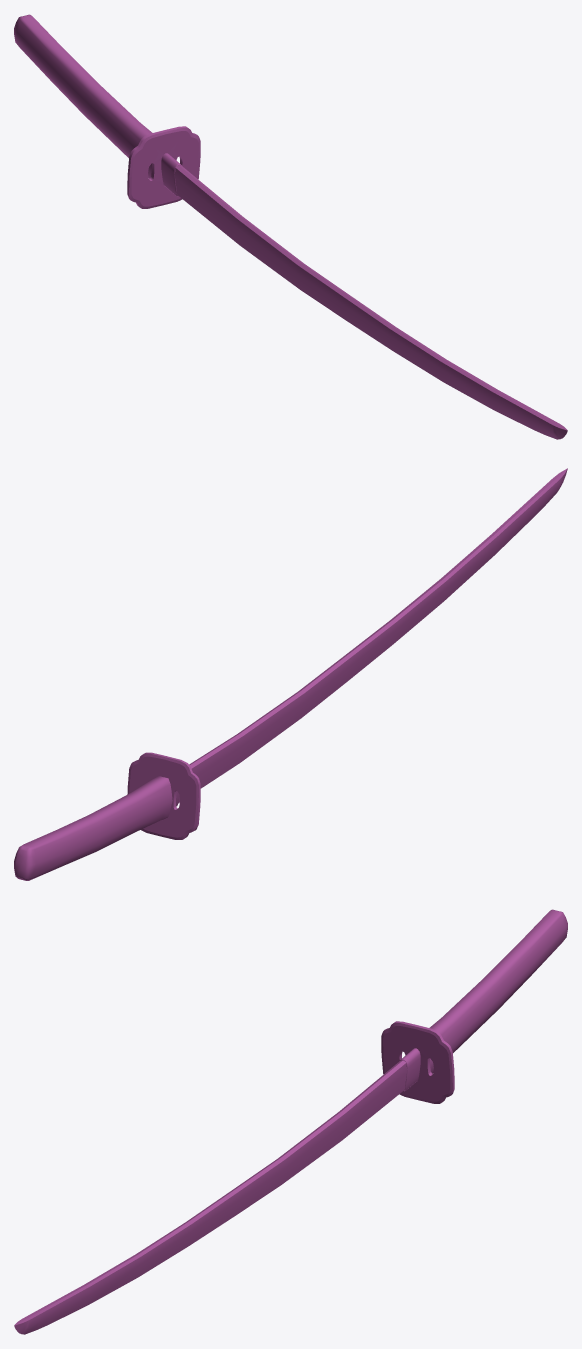
Rendered from katana_low.fbx.
3 renders of one model, top to bottom at view 1: azimuth 30°, elevation 25°; view 2: azimuth 150°, elevation 25°; view 3: azimuth 330°, elevation 25°, orthographic.
Parts seen in each view (by area): view 1: geo_blade1, grip_low, tsuba_low; view 2: geo_blade1, grip_low, tsuba_low; view 3: geo_blade1, grip_low, tsuba_low.
Boxes of the visible parts, left/top/right/bottom form: geo_blade1: left=175, top=165, right=567, bottom=439; grip_low: left=14, top=14, right=152, bottom=178; tsuba_low: left=127, top=126, right=200, bottom=208; geo_blade1: left=178, top=468, right=567, bottom=803; grip_low: left=14, top=776, right=172, bottom=880; tsuba_low: left=127, top=752, right=200, bottom=839; geo_blade1: left=14, top=1060, right=406, bottom=1334; grip_low: left=429, top=909, right=567, bottom=1073; tsuba_low: left=381, top=1021, right=454, bottom=1103.
Bounding box in the file's own units: 1.99 × 2.39 × 26.56.
